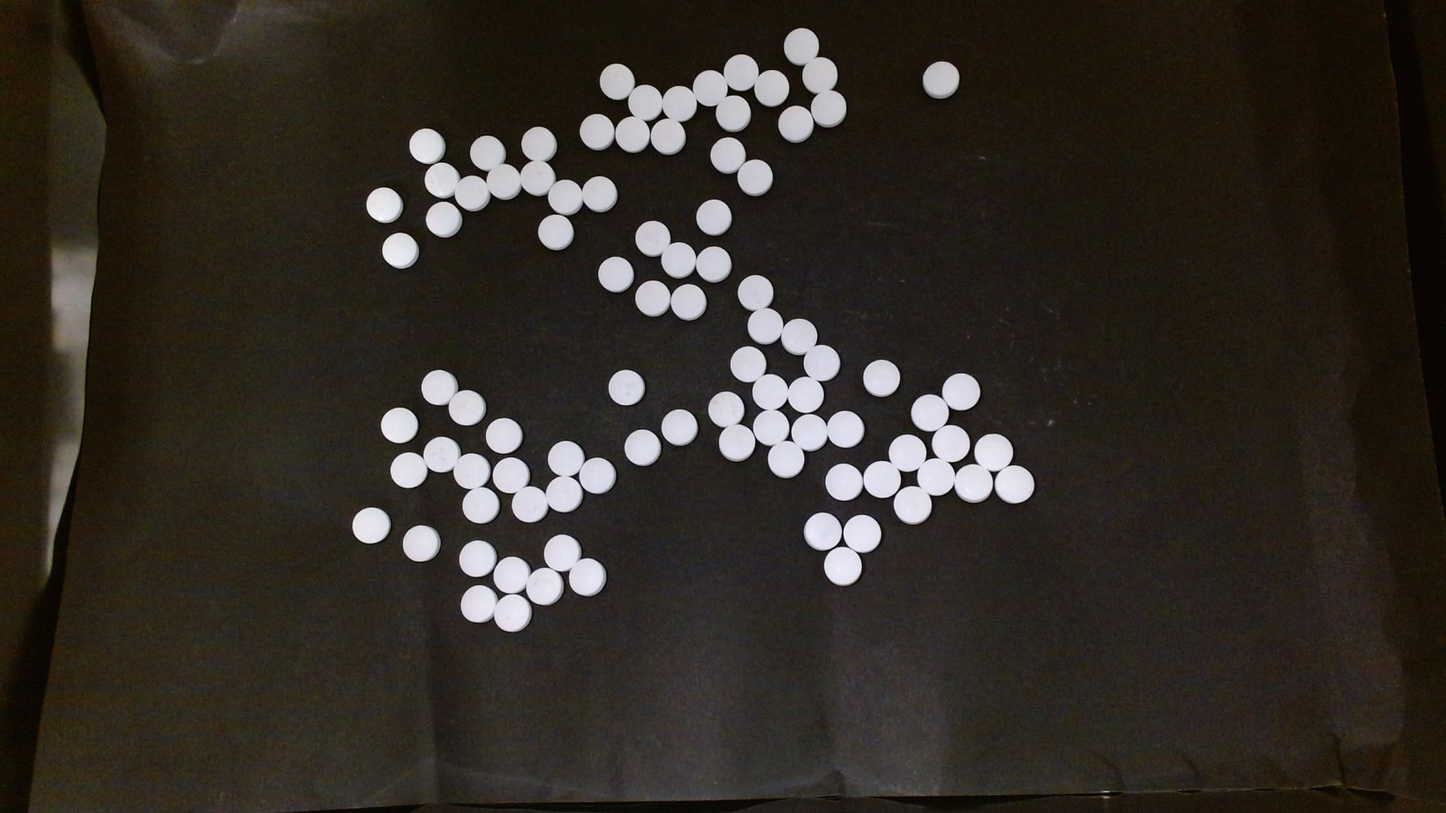Circle: (994, 464, 1036, 504), (974, 432, 1014, 471), (823, 547, 863, 586), (893, 486, 932, 525), (843, 513, 881, 553), (568, 557, 606, 597), (351, 506, 391, 544), (910, 393, 949, 431), (941, 372, 980, 410), (954, 463, 993, 501), (917, 457, 955, 496), (803, 511, 841, 550), (493, 593, 531, 632), (389, 451, 427, 489), (932, 423, 970, 461), (543, 533, 581, 571), (458, 539, 496, 577), (379, 406, 418, 443), (493, 555, 530, 594), (578, 456, 615, 494), (448, 388, 485, 426), (462, 486, 499, 524), (824, 463, 861, 501), (718, 423, 755, 461), (752, 372, 789, 410), (768, 439, 805, 477), (862, 358, 899, 396), (889, 434, 927, 471), (401, 525, 439, 562), (922, 60, 959, 98), (547, 440, 584, 477), (453, 452, 490, 489), (492, 456, 529, 493), (862, 461, 899, 498), (752, 408, 789, 445), (420, 369, 457, 406), (526, 568, 563, 605), (381, 232, 418, 269), (459, 585, 496, 622), (714, 94, 750, 132), (695, 198, 731, 236), (597, 255, 633, 293), (485, 417, 522, 453), (810, 89, 846, 126), (753, 69, 789, 106), (781, 318, 817, 355), (578, 113, 614, 150), (634, 279, 670, 316), (661, 409, 697, 446), (537, 213, 573, 250), (545, 475, 581, 512), (624, 429, 660, 466), (792, 413, 828, 450), (599, 62, 635, 99), (782, 28, 818, 65), (608, 369, 645, 405), (737, 158, 772, 196), (671, 282, 706, 320), (801, 57, 837, 93), (746, 308, 782, 344), (423, 435, 459, 471), (634, 220, 670, 256), (730, 346, 766, 382), (737, 274, 773, 310), (512, 486, 548, 522), (581, 175, 616, 212), (696, 245, 731, 282), (650, 117, 685, 154), (778, 105, 813, 142), (614, 116, 649, 153), (827, 411, 862, 448), (723, 53, 758, 90), (425, 200, 460, 236), (454, 175, 489, 211), (710, 136, 745, 172), (708, 391, 743, 427), (469, 134, 505, 169), (787, 376, 822, 412), (409, 128, 445, 163), (365, 187, 401, 222), (693, 69, 727, 106), (424, 162, 459, 197), (804, 344, 839, 379), (520, 160, 554, 196), (660, 242, 694, 277), (520, 126, 555, 160), (486, 164, 520, 199), (548, 179, 581, 214), (628, 84, 661, 119), (663, 85, 694, 120)
